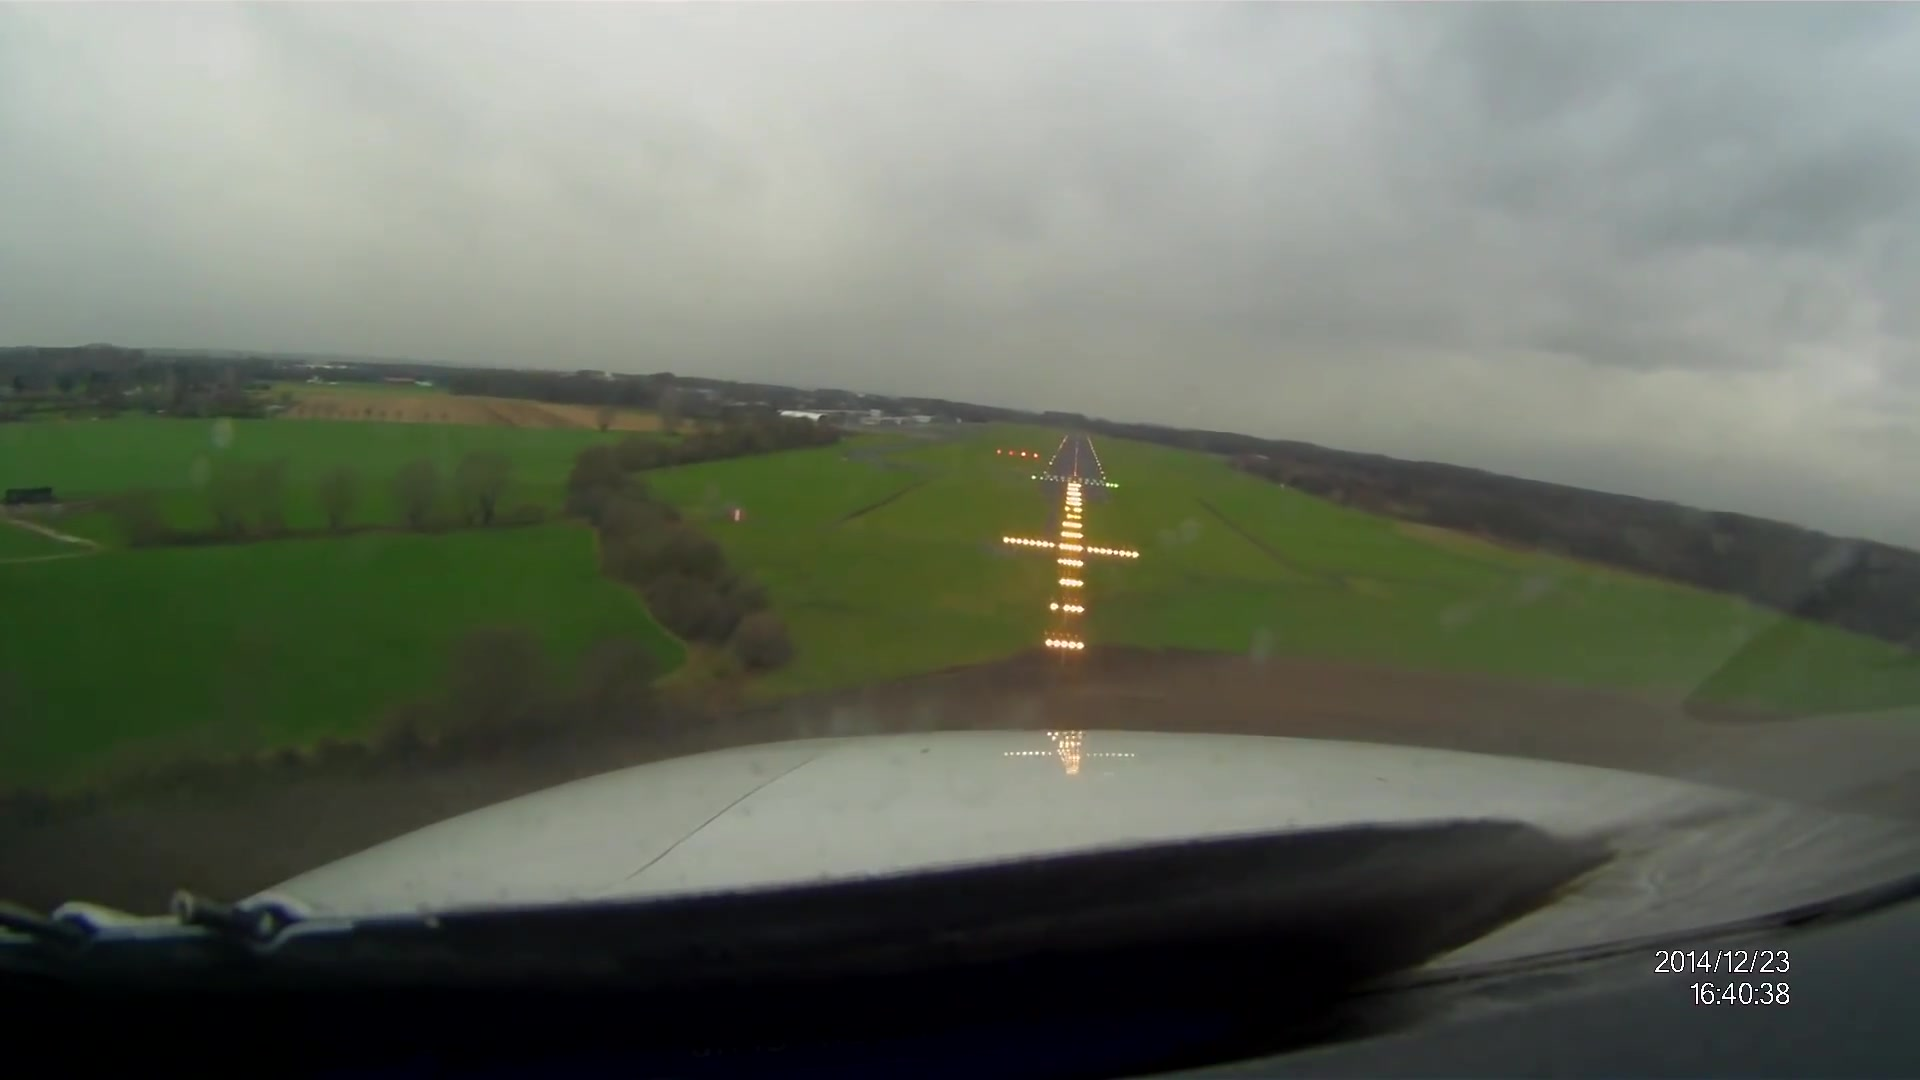entrance: (1044, 473, 1105, 487)
runway: (1042, 433, 1112, 492)
